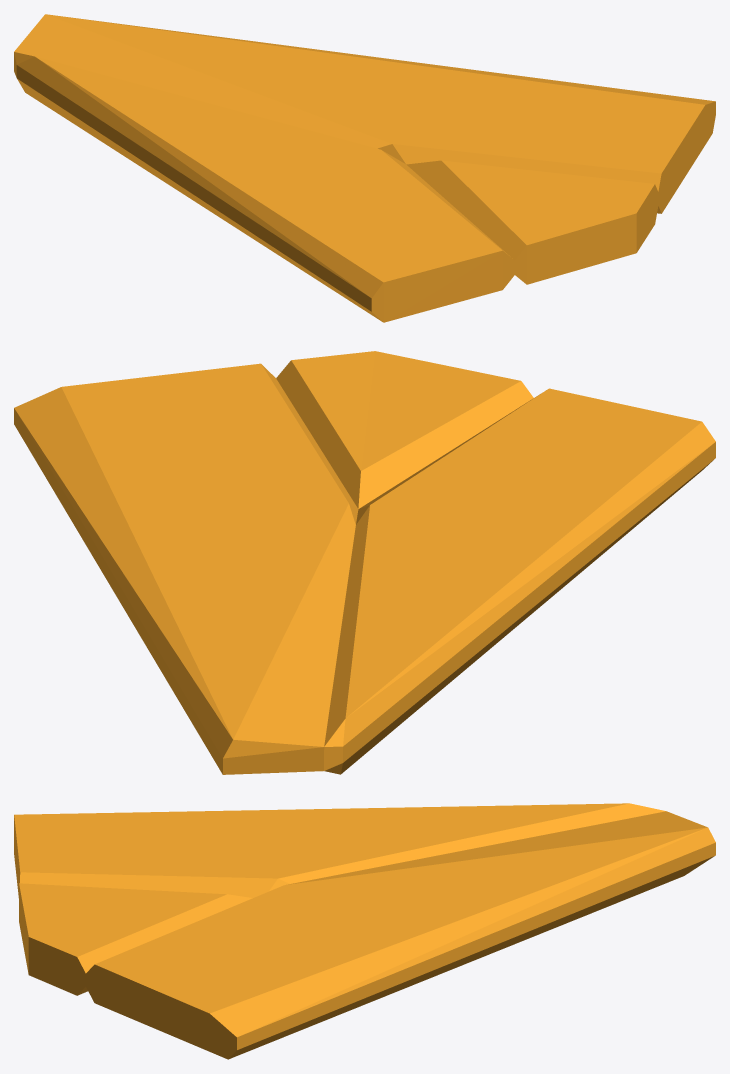
File: SM_Machicolation_Corner_A_Fantasy.fbx
The picture shows the model from 3 angles, top to bottom: view 1: azimuth 30°, elevation 25°; view 2: azimuth 150°, elevation 25°; view 3: azimuth 270°, elevation 25°; orthographic projection. The views are drawn at different scales.
Parts seen in each view (by area): view 1: SM_Machicolation_Corner_A_Fantasy; view 2: SM_Machicolation_Corner_A_Fantasy; view 3: SM_Machicolation_Corner_A_Fantasy.
Boxes of the visible parts, bbox=[...] form: SM_Machicolation_Corner_A_Fantasy: bbox=[14, 14, 715, 322]; SM_Machicolation_Corner_A_Fantasy: bbox=[14, 351, 715, 774]; SM_Machicolation_Corner_A_Fantasy: bbox=[14, 803, 715, 1059].
Size of the model in its own units: 0.6287 by 0.0527 by 0.8218.
